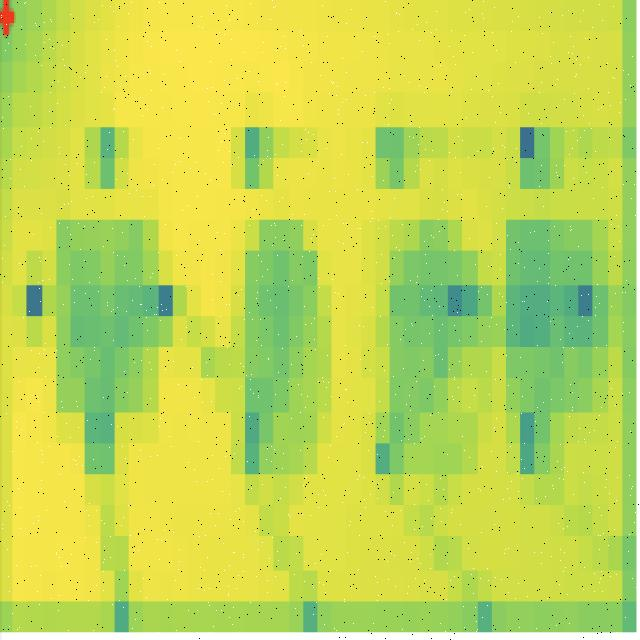Concrete: (506, 222, 608, 416)
Glass: (380, 220, 478, 490)
Metal: (56, 217, 159, 411)
Wood: (225, 220, 327, 487)
